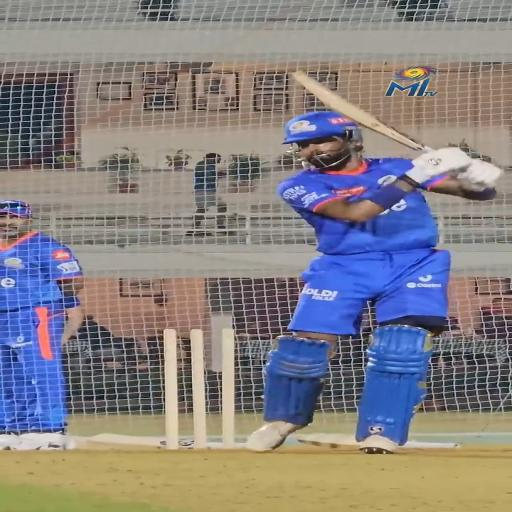Cricket bat: (294, 71, 430, 152)
